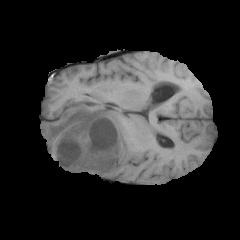glioma: (42, 102, 128, 173)
